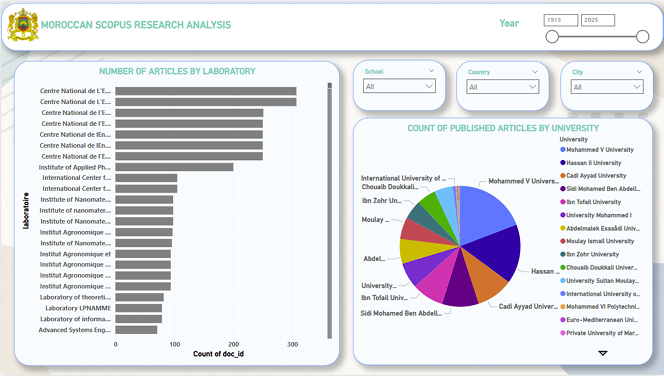

The page's visual inventory and layout, read from the dashboard file:
{"tool":"powerbi","page":{"name":"Dashboard2","canvas":[1280,720],"ordinal":1},"visuals":[{"type":"slicer","fields":{"Values":["Affiliation.city"]},"box":[1081,113.4,179.5,96.4],"z":0},{"type":"slicer","fields":{"Values":["Affiliation.country"]},"box":[880.6,113.4,179.5,96.4],"z":1000},{"type":"slicer","fields":{"Values":["Affiliation.school"]},"box":[680.3,111.5,179.5,98.3],"z":2000},{"type":"barChart","title":" NUMBER OF ARTICLES BY LABORATORY","fields":{"Category":["Affiliation.laboratoire"],"Y":["CountNonNull(Metadata.doc_id)"]},"box":[24.6,113.4,629.3,589.6],"z":3000},{"type":"pieChart","title":"COUNT OF PUBLISHED ARTICLES BY UNIVERSITY","fields":{"Category":["Affiliation.university"],"Y":["CountNonNull(Metadata.doc_id)"]},"box":[680,224,580,478],"z":4000},{"type":"textbox","box":[0,2,1280,92],"z":5000},{"type":"image","box":[0,0,84.5,84.5],"z":6000},{"type":"textbox","box":[71.8,26.5,393.1,41.6],"z":7000},{"type":"textbox","box":[958,24,68,34.7],"z":8000},{"type":"slicer","fields":{"Values":["Metadata.year"]},"box":[1026,3.3,244,86.7],"z":9000}]}

Visuals, with their boxes in screenshot pixels (x1, y1, x2, y2), scaled from the page's 1280x720 canvas onto the 664x376 screenshot:
slicer - Affiliation.city: bbox=[561, 59, 654, 110]
slicer - Affiliation.country: bbox=[457, 59, 550, 110]
slicer - Affiliation.school: bbox=[353, 58, 446, 110]
" NUMBER OF ARTICLES BY LABORATORY" barChart: bbox=[13, 59, 339, 367]
"COUNT OF PUBLISHED ARTICLES BY UNIVERSITY" pieChart: bbox=[353, 117, 654, 367]
textbox: bbox=[0, 1, 663, 49]
image: bbox=[0, 0, 44, 44]
textbox: bbox=[37, 14, 241, 36]
textbox: bbox=[497, 13, 532, 31]
slicer - Metadata.year: bbox=[532, 2, 659, 47]
